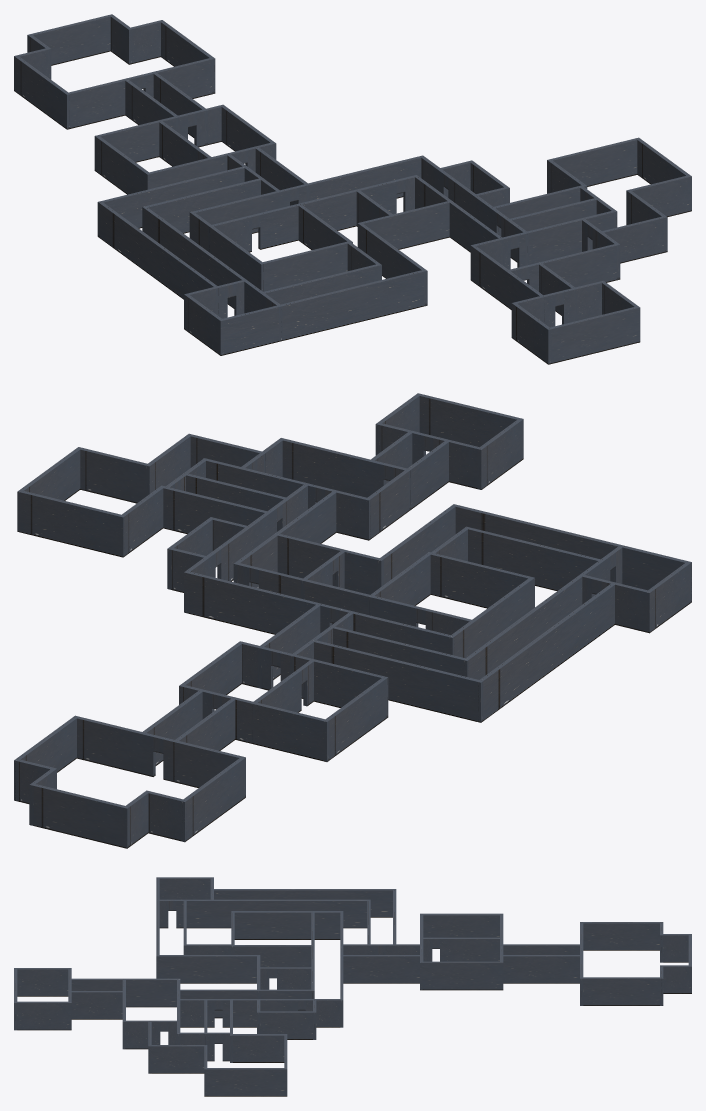
File: WallColl.fbx
The picture shows the model from 3 angles, top to bottom: view 1: azimuth 30°, elevation 25°; view 2: azimuth 150°, elevation 25°; view 3: azimuth 270°, elevation 25°; orthographic projection. The views are drawn at different scales.
Parts seen in each view (by area): view 1: WallColl39, WallColl33, WallColl42, WallColl92, WallColl32, WallColl52, WallColl30, WallColl70, WallColl50, WallColl67, WallColl3, WallColl82 (+47 smaller); view 2: WallColl33, WallColl30, WallColl39, WallColl28, WallColl70, WallColl41, WallColl3, WallColl32, WallColl13, WallColl82, WallColl85, WallColl50 (+46 smaller); view 3: WallColl32, WallColl47, WallColl51, WallColl15, WallColl72, WallColl33, WallColl, WallColl4, WallColl11, WallColl23, WallColl85, WallColl17 (+22 smaller).
Boxes of the visible parts, box(x1,y1,x2,y2) form: WallColl39: box(218, 269, 426, 355); WallColl33: box(100, 201, 219, 316); WallColl42: box(258, 180, 396, 249); WallColl92: box(546, 306, 640, 364); WallColl32: box(142, 206, 269, 313); WallColl52: box(357, 200, 452, 249); WallColl30: box(97, 166, 245, 237); WallColl70: box(547, 138, 640, 188); WallColl50: box(261, 241, 352, 291); WallColl67: box(517, 210, 616, 267); WallColl3: box(27, 15, 110, 65); WallColl82: box(527, 243, 619, 291); WallColl33: box(477, 583, 614, 722); WallColl30: box(312, 639, 483, 722); WallColl39: box(452, 504, 691, 603); WallColl28: box(184, 570, 331, 634); WallColl70: box(17, 490, 125, 557); WallColl41: box(464, 526, 600, 590); WallColl3: box(29, 783, 129, 848); WallColl32: box(463, 555, 610, 679); WallColl13: box(222, 694, 329, 761); WallColl82: box(279, 438, 385, 497); WallColl85: box(365, 439, 450, 540); WallColl50: box(427, 552, 534, 608); WallColl32: box(176, 899, 370, 928); WallColl47: box(231, 911, 343, 939); WallColl51: box(156, 955, 258, 983); WallColl15: box(420, 961, 503, 990); WallColl72: box(204, 1068, 287, 1096); WallColl33: box(211, 889, 394, 917); WallColl: box(580, 977, 663, 1005); WallColl4: box(580, 922, 663, 950); WallColl11: box(503, 955, 579, 983); WallColl23: box(343, 955, 419, 983); WallColl85: box(70, 978, 179, 1007); WallColl17: box(420, 913, 502, 937).
Size of the model in its own units: 8876 by 590 by 13253.
